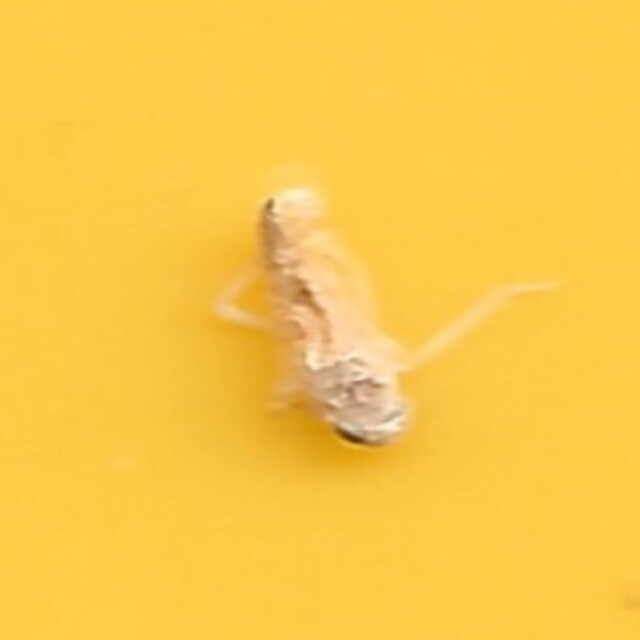Hemiptera: (221, 180, 419, 460)
